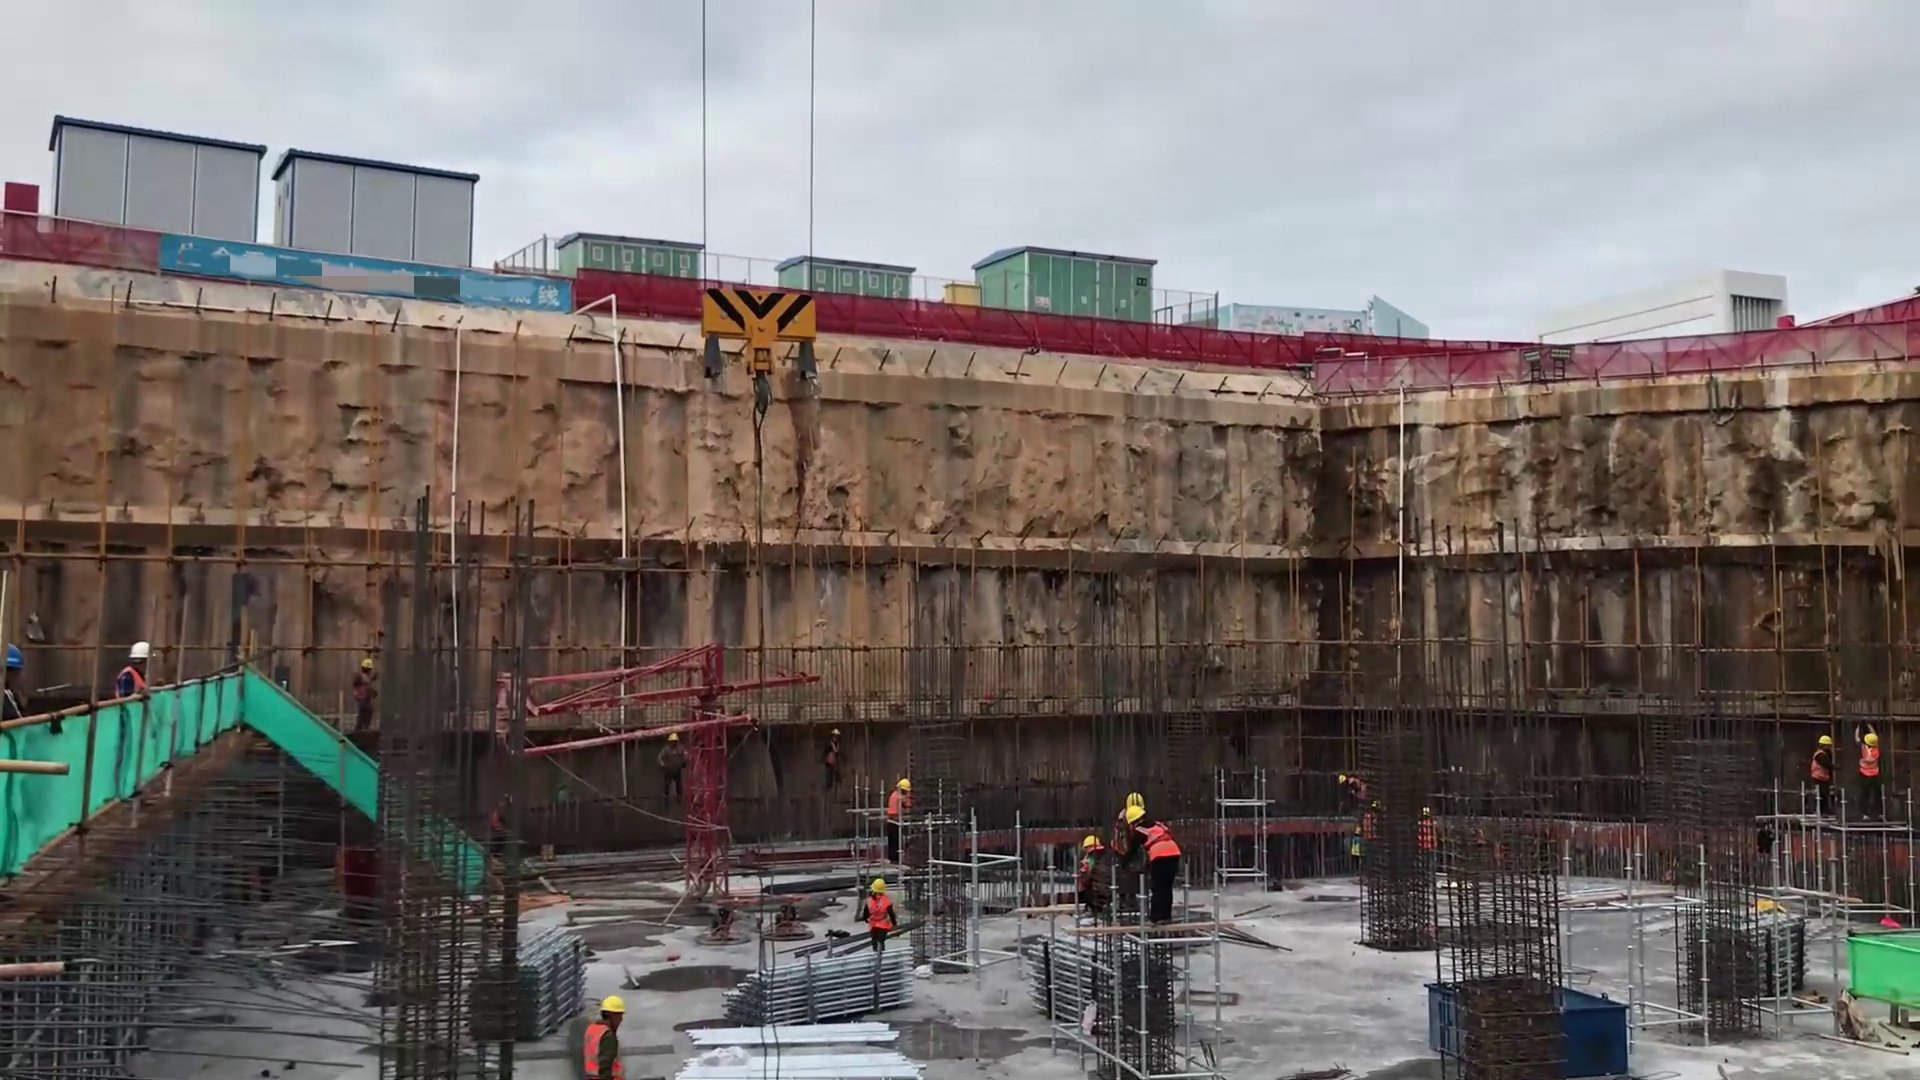helmet: (604, 991, 654, 1026), (1111, 792, 1158, 824), (121, 635, 158, 669), (1348, 812, 1375, 842), (1, 649, 40, 670), (1861, 719, 1889, 746), (1423, 788, 1448, 814), (359, 646, 374, 673), (1338, 768, 1359, 785)
hook: (683, 254, 839, 433)
hopper: (1411, 976, 1628, 1080)
person: (1117, 796, 1204, 910), (573, 991, 631, 1080), (111, 623, 171, 706), (852, 870, 897, 951), (1858, 719, 1893, 815), (651, 726, 694, 806), (878, 769, 919, 849), (350, 656, 385, 729), (816, 723, 854, 784), (1321, 754, 1367, 797), (1335, 810, 1374, 858), (1811, 726, 1829, 820), (1415, 796, 1439, 858)
scaffold: (458, 899, 589, 1051), (721, 933, 924, 1031), (1017, 907, 1165, 1041)
vest: (1856, 727, 1897, 789), (582, 1023, 620, 1077), (859, 893, 890, 933), (882, 788, 921, 814), (1815, 738, 1832, 783)
